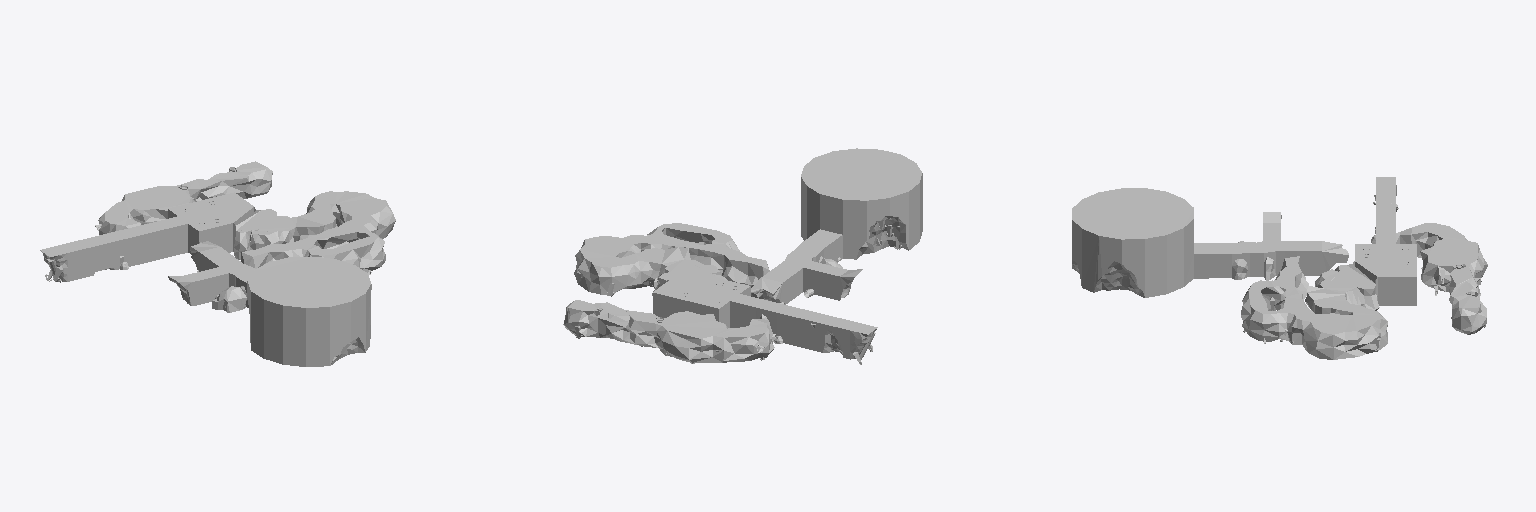
The model's file is 42.full.obj.
3 renders of one model, left to right at view 1: azimuth 30°, elevation 25°; view 2: azimuth 150°, elevation 25°; view 3: azimuth 270°, elevation 25°, orthographic.
Bounding box in the file's own units: 122 × 24.06 × 139.